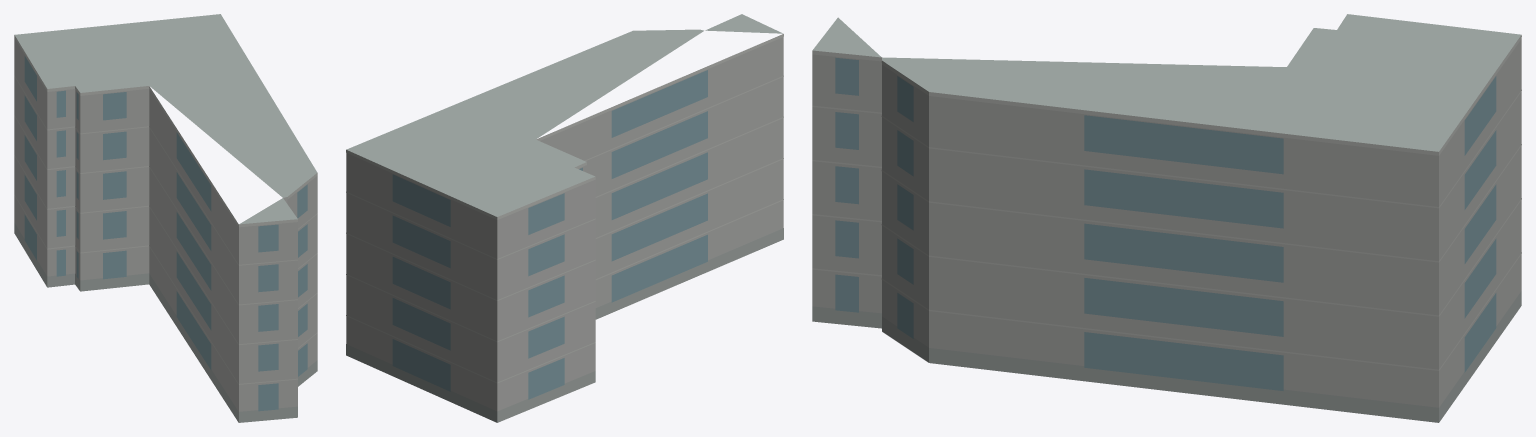
Rendered from survey-upis-32874705.glb.
3 views of the same model, side by side, from view 1: azimuth 30°, elevation 25°; view 2: azimuth 150°, elevation 25°; view 3: azimuth 270°, elevation 25° (orthographic). The views are drawn at different scales.
Visible parts, largest first — view 1: survey-upis-32874705.tmp; view 2: survey-upis-32874705.tmp; view 3: survey-upis-32874705.tmp.
Boxes of the visible parts, left/top/right/bottom form: survey-upis-32874705.tmp: left=14, top=14, right=317, bottom=422; survey-upis-32874705.tmp: left=346, top=14, right=783, bottom=422; survey-upis-32874705.tmp: left=812, top=14, right=1521, bottom=422.
Bounding box in the file's own units: 18.08 × 16.55 × 39.28.
